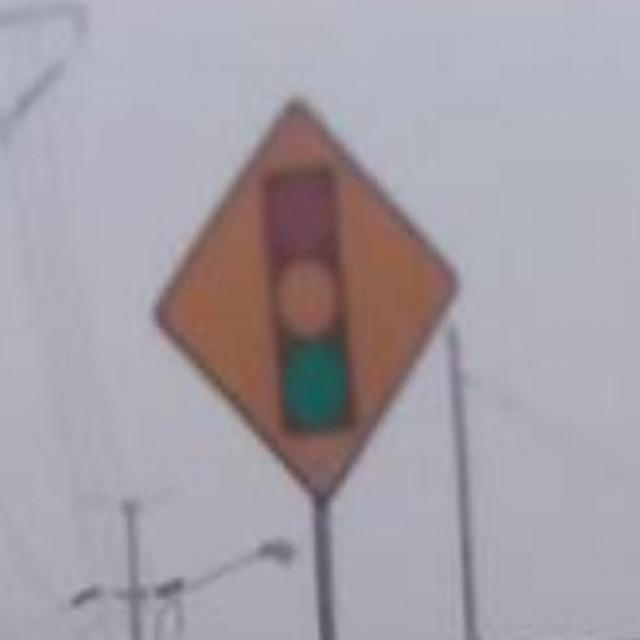traffic sign: (159, 103, 451, 496)
